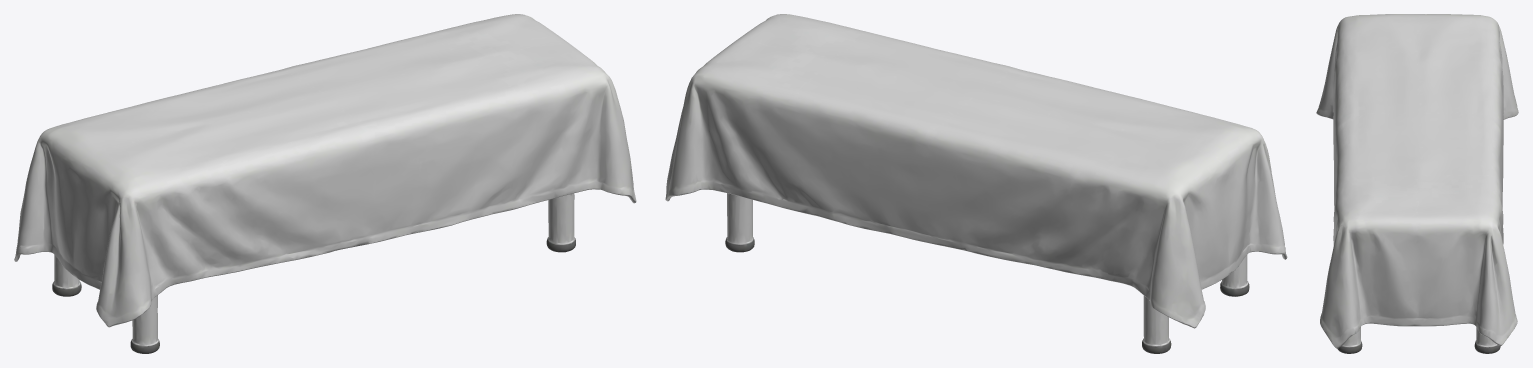
File: treatment-bed.glb
3 renders of one model, left to right at view 1: azimuth 30°, elevation 25°; view 2: azimuth 150°, elevation 25°; view 3: azimuth 270°, elevation 25°, orthographic. The views are drawn at different scales.
Parts seen in each view (by area): view 1: treatment-bed; view 2: treatment-bed; view 3: treatment-bed.
Boxes of the visible parts, x1,y1,x2,y2 form: treatment-bed: [14, 14, 636, 353]; treatment-bed: [665, 14, 1287, 353]; treatment-bed: [1316, 14, 1518, 353].
Size of the model in its own units: 1.95 by 0.5998 by 0.7233.
1 material, 1 textured.
